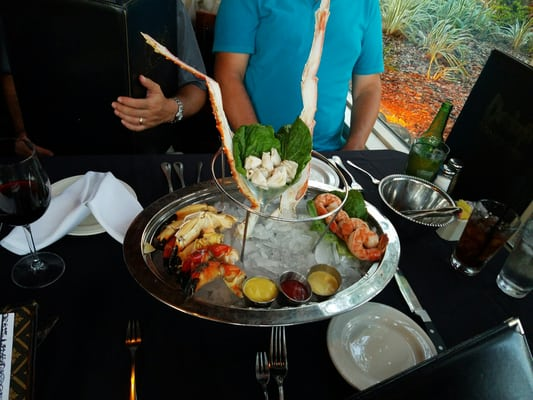burger: (394, 267, 449, 354), (267, 326, 288, 400), (124, 319, 143, 400), (255, 352, 271, 400)
pizza: (448, 198, 521, 278), (496, 199, 533, 300)
sushi: (122, 168, 404, 333), (326, 301, 433, 391), (230, 118, 314, 217), (378, 173, 467, 243)
taco: (242, 276, 278, 305)
